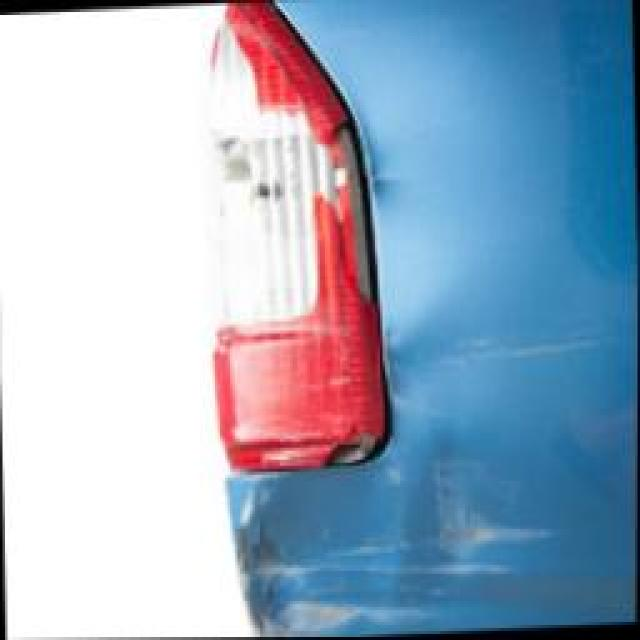Bumper: (228, 448, 626, 640)
Light: (140, 0, 380, 462)
